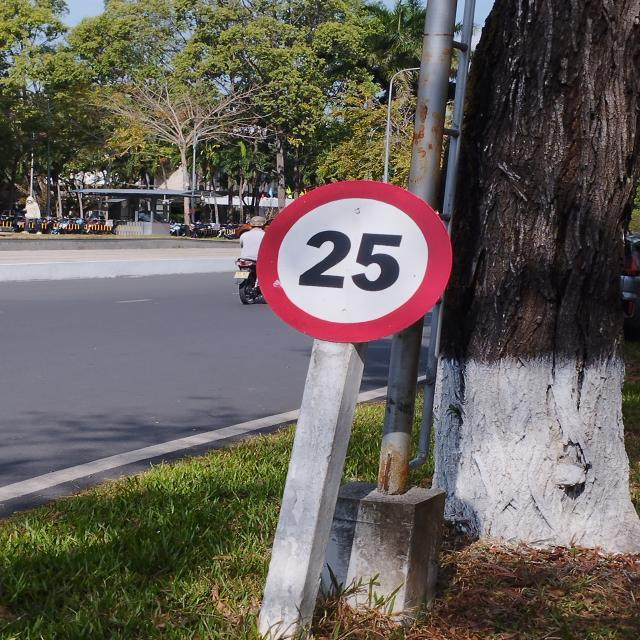Tre_Em: (256, 179, 451, 342)
